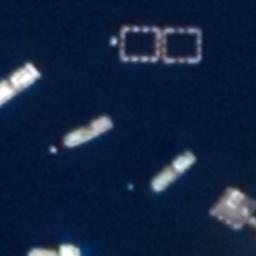square_solid: (207, 182, 256, 233), (115, 20, 166, 65), (160, 21, 207, 69)
